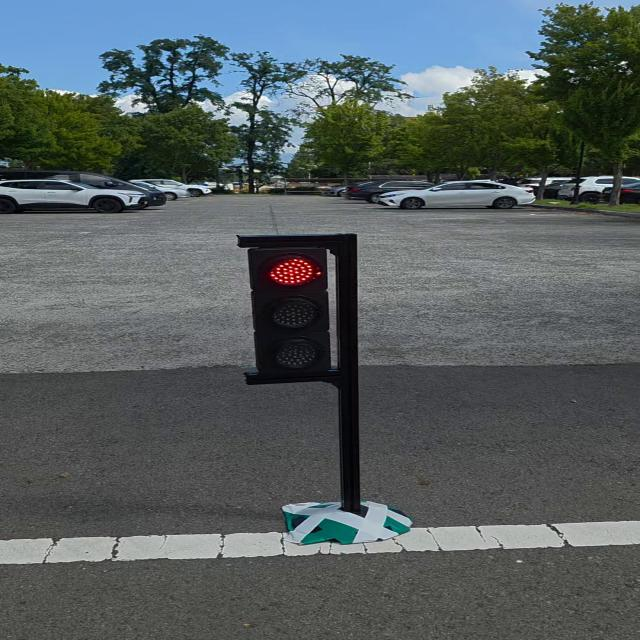red: (231, 231, 369, 389)
